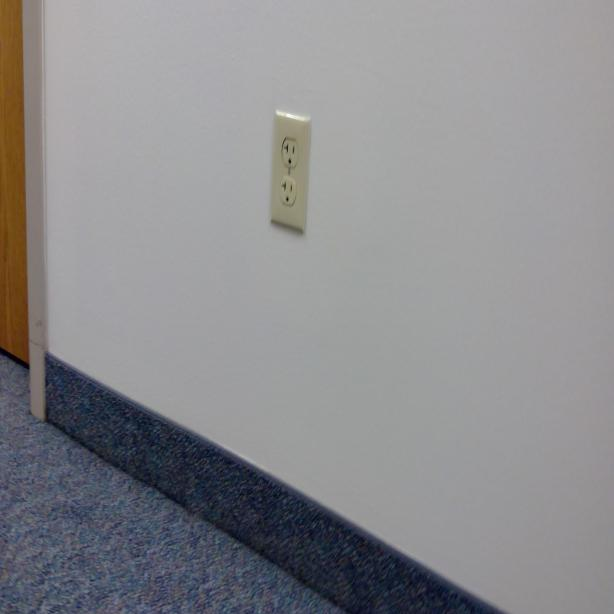typeb: (282, 137, 299, 170), (280, 173, 297, 206)
